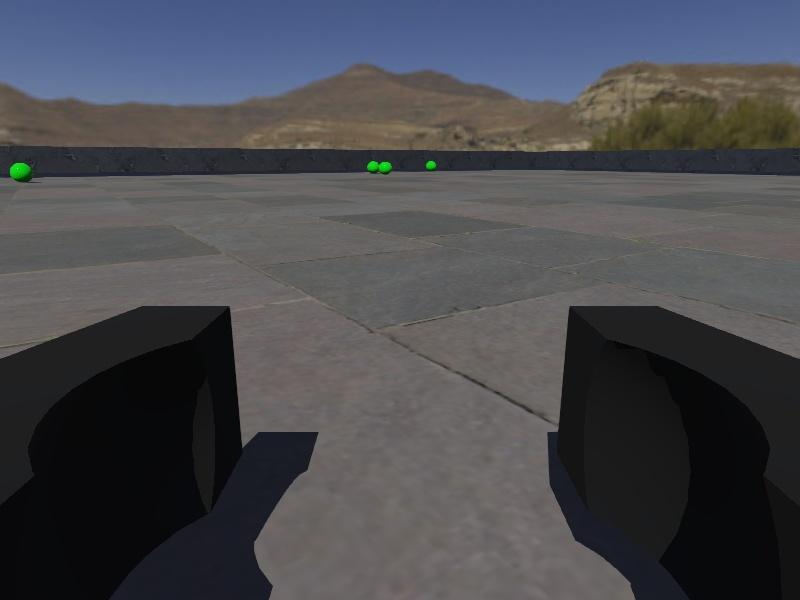green ball: (9, 161, 34, 182), (378, 160, 392, 174), (366, 159, 379, 174), (425, 159, 437, 172)
